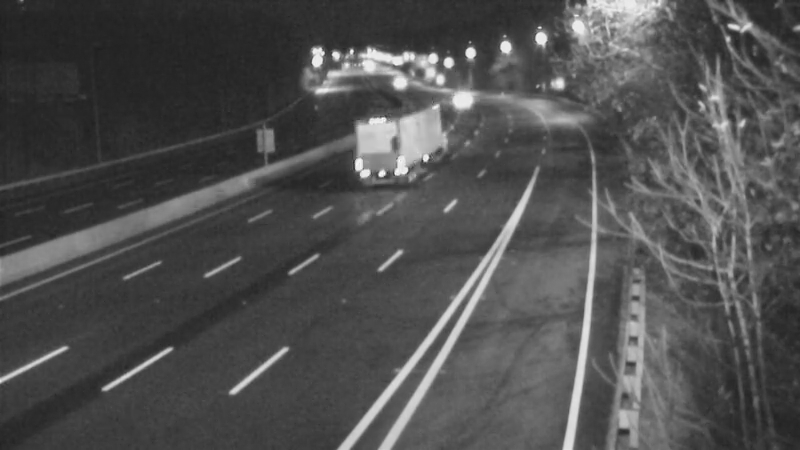vehicle: (366, 58, 416, 108), (435, 73, 485, 123), (357, 111, 407, 161)
